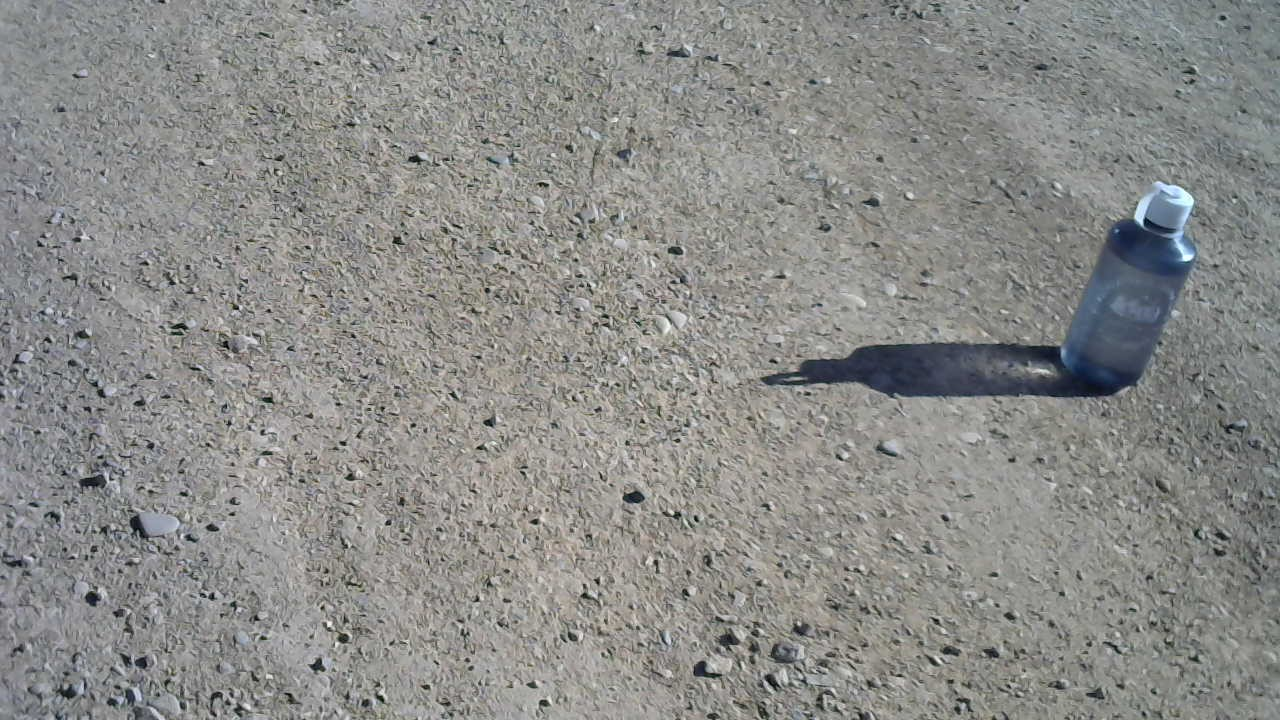bottle: (1053, 175, 1202, 392)
